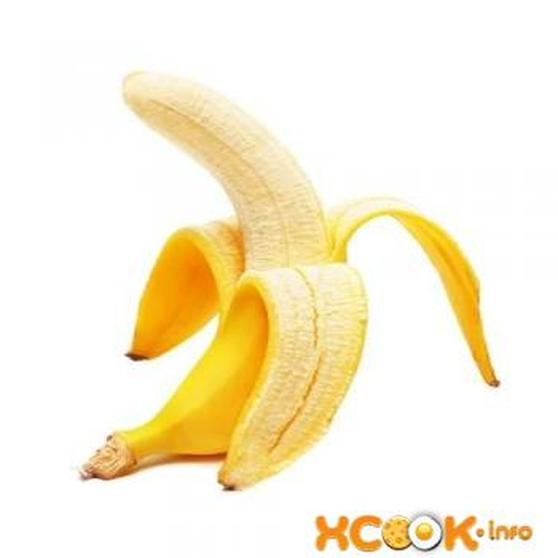banana: (90, 48, 364, 500)
